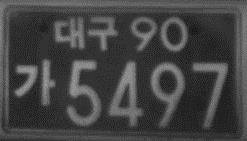0: (160, 15, 188, 52)
4: (107, 59, 145, 129)
5: (65, 58, 102, 127)
7: (190, 61, 229, 129)
9: (148, 61, 188, 128), (128, 14, 157, 54)
가: (14, 57, 55, 108)
대구_O: (52, 13, 119, 52)
